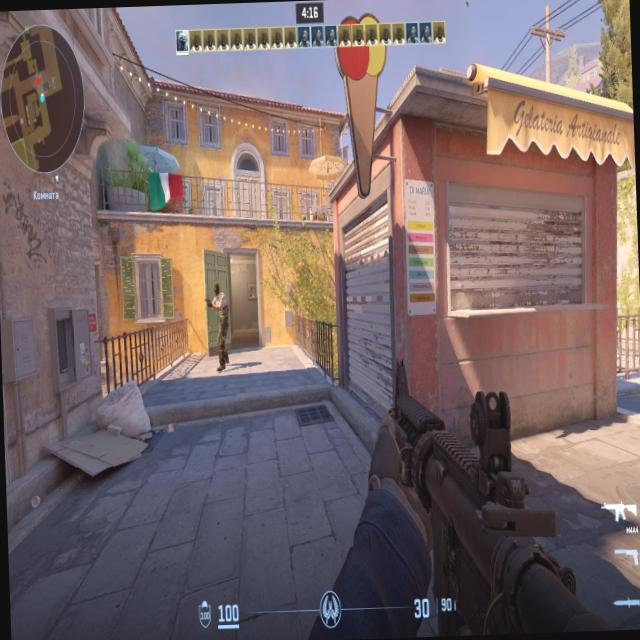T: (213, 286, 228, 365)
T_heat: (216, 284, 220, 298)
